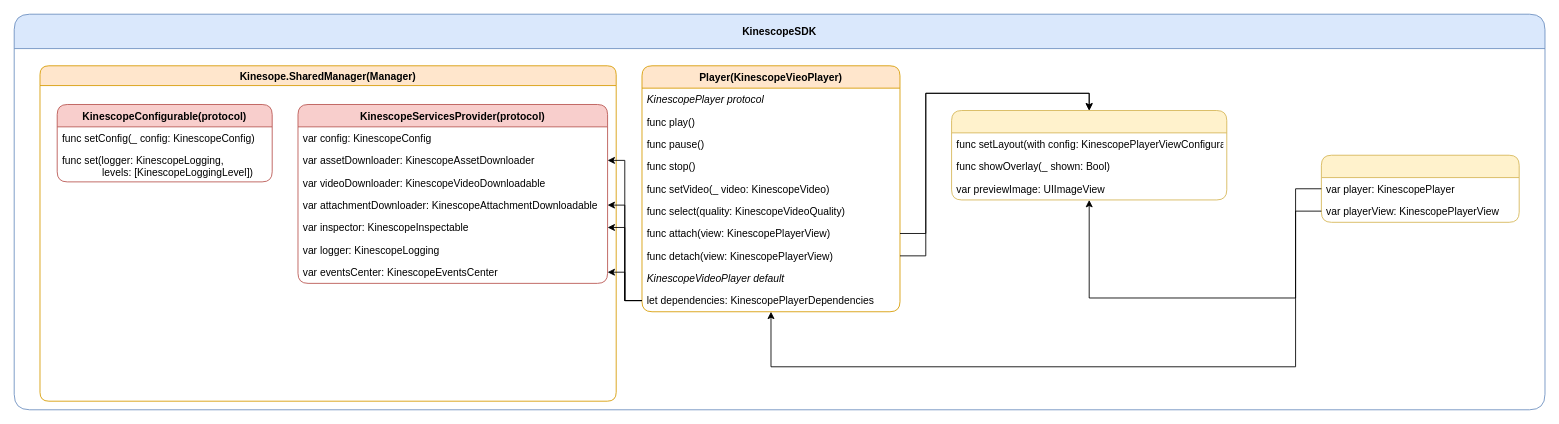
Image size: 1559x424. Some labels were removed from this diagram. The box of each missing label's shape, as (x1, y1, x2, y2) in pixels:
KinescopeFullscreenViewController: (1321, 154, 1519, 222)
View(KinescopePlayerView): (951, 110, 1227, 200)
